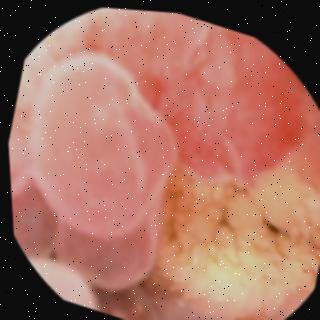stone: (146, 160, 320, 305)
tissue: (7, 8, 320, 320)
